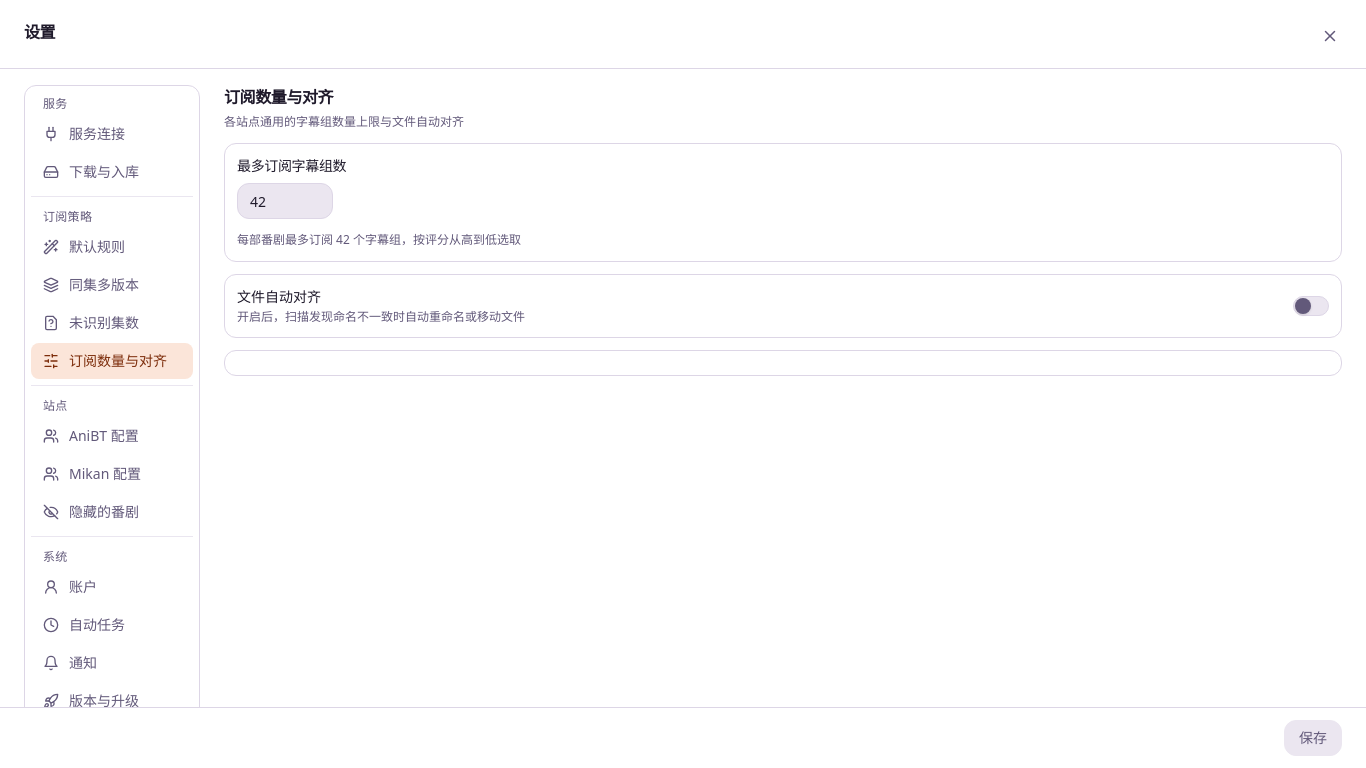
SettingsDialog footer 唯一保存 › 订阅策略分区有 footer 保存，未改动时不可点，改动后可点
Expected: the number of buttons "保存" is 1, [1284,720,1342,756]
Expected: the button "保存" is disabled, [1284,720,1342,756]
Replace the text in the field named "最多订阅字幕组数（0–100）" with "50" at (285, 201), box [237,183,333,219]
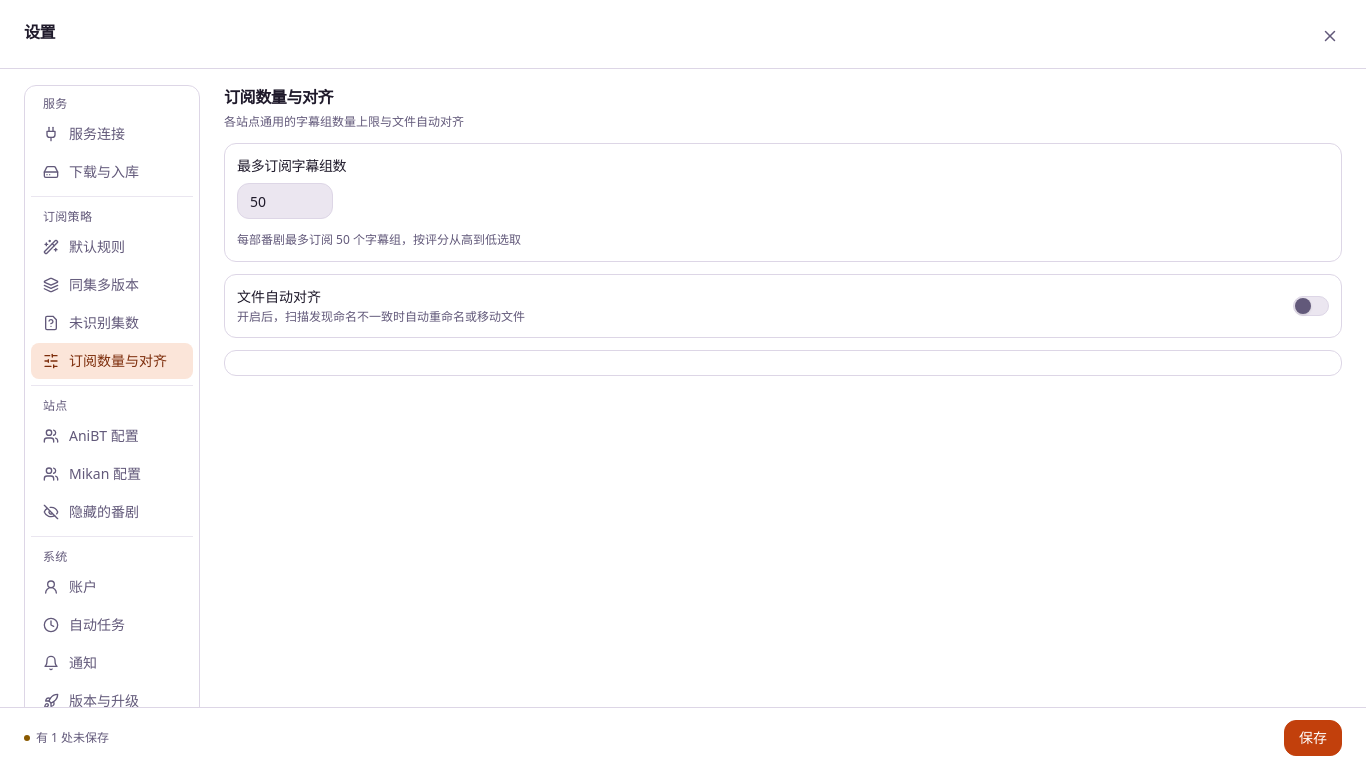
Expected: the button "保存" is enabled, [1284,720,1342,756]
